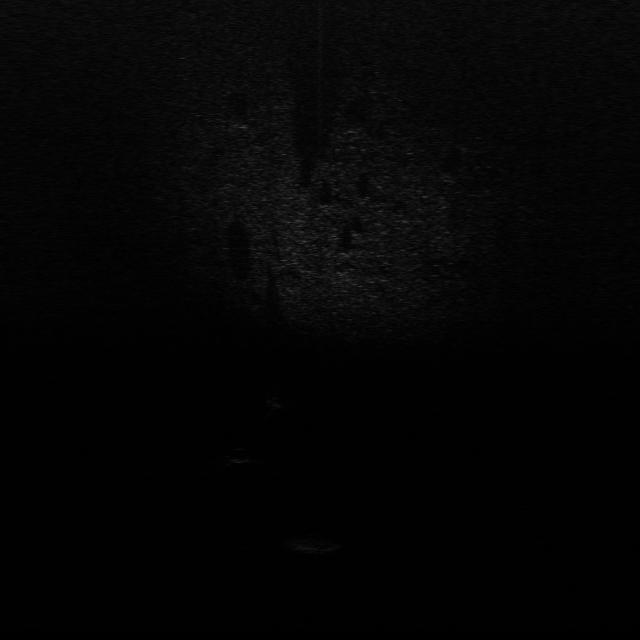ball: (228, 444, 256, 465)
circle cage: (287, 533, 344, 552)
human body: (264, 381, 287, 418)
